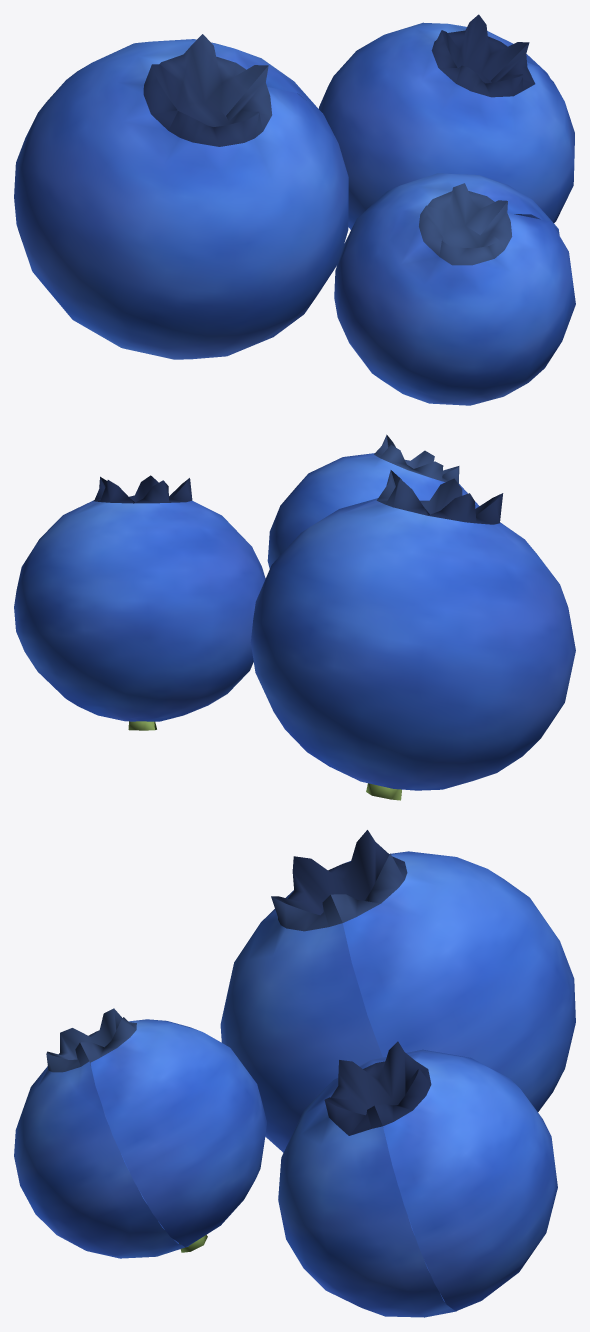
The model's file is NP_Blueberry_Harvest_LOD1.fbx.
The picture shows the model from 3 angles, top to bottom: view 1: azimuth 30°, elevation 25°; view 2: azimuth 150°, elevation 25°; view 3: azimuth 270°, elevation 25°; orthographic projection. The views are drawn at different scales.
Parts seen in each view (by area): view 1: NP_Blueberry_Harvest; view 2: NP_Blueberry_Harvest; view 3: NP_Blueberry_Harvest.
Part boxes in pixels (<box>): NP_Blueberry_Harvest: <box>14,14,575,405</box>; NP_Blueberry_Harvest: <box>14,434,575,800</box>; NP_Blueberry_Harvest: <box>14,830,575,1317</box>.
Size of the model in its own units: 50.86 by 28.01 by 43.62.
1 material, 1 textured.
